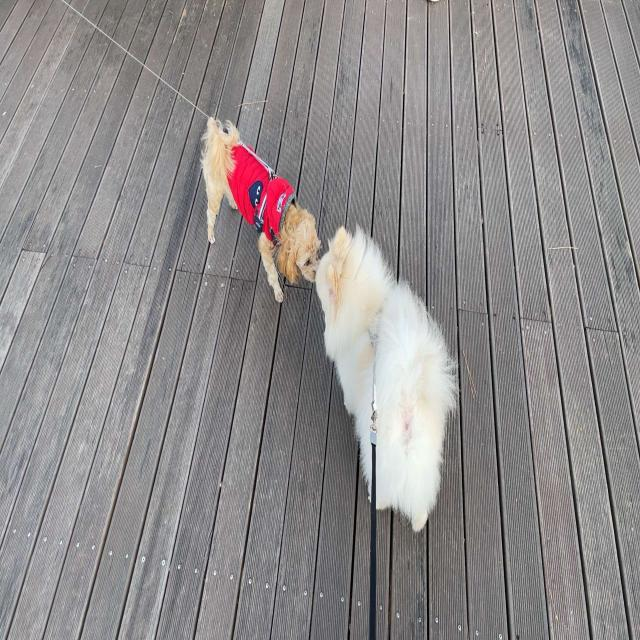Dog: (316, 225, 459, 533), (199, 114, 321, 304)
